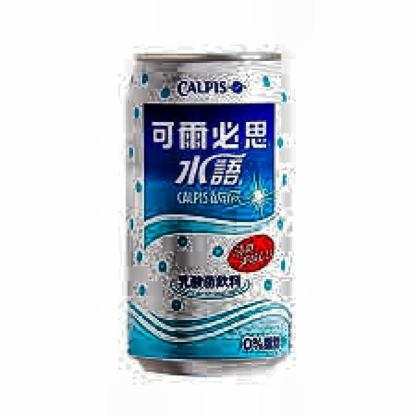Can: (114, 41, 302, 389)
